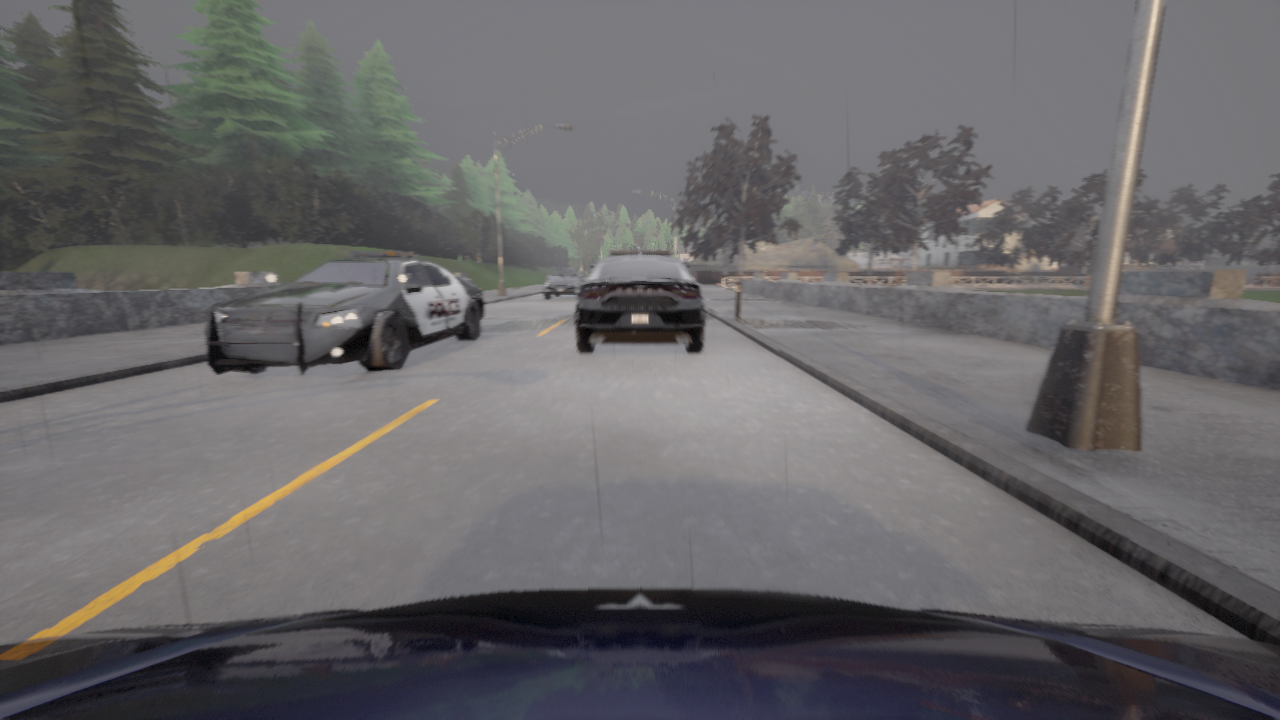cyclist: (0, 588, 1279, 719), (205, 251, 483, 377), (575, 248, 704, 352), (543, 268, 585, 298)
